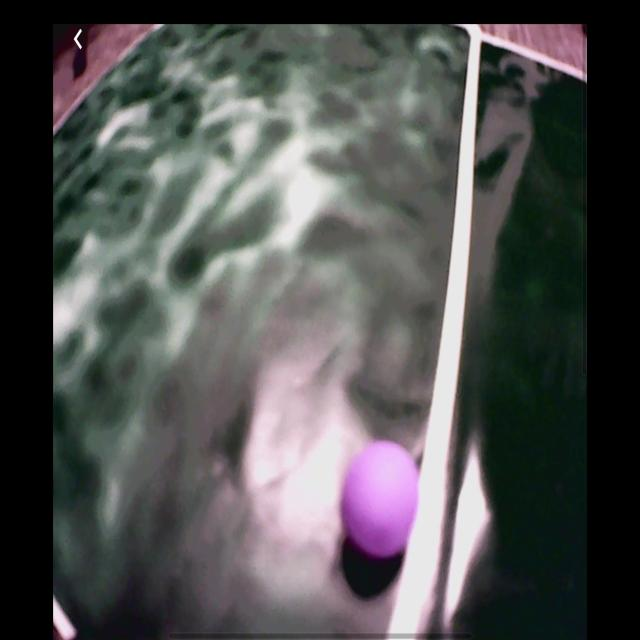ball: (338, 440, 419, 561)
